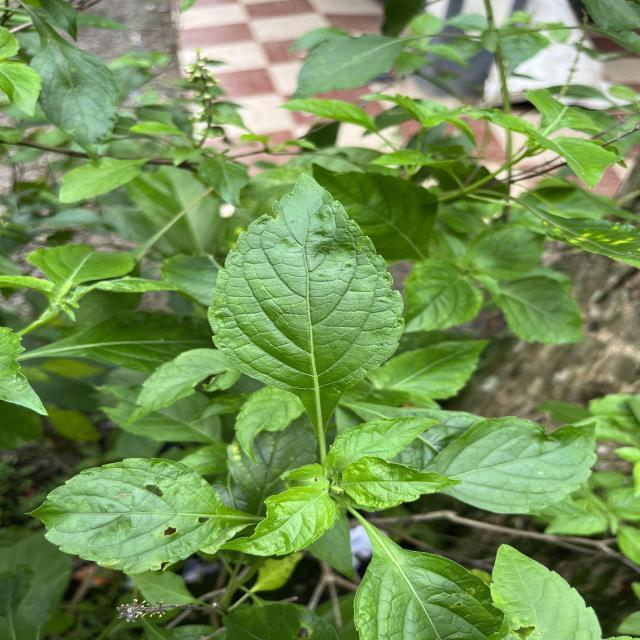Ocimum gratissimum: (204, 168, 410, 438), (21, 456, 252, 578), (350, 519, 512, 640), (215, 485, 344, 560), (322, 412, 446, 475), (340, 452, 470, 511)
